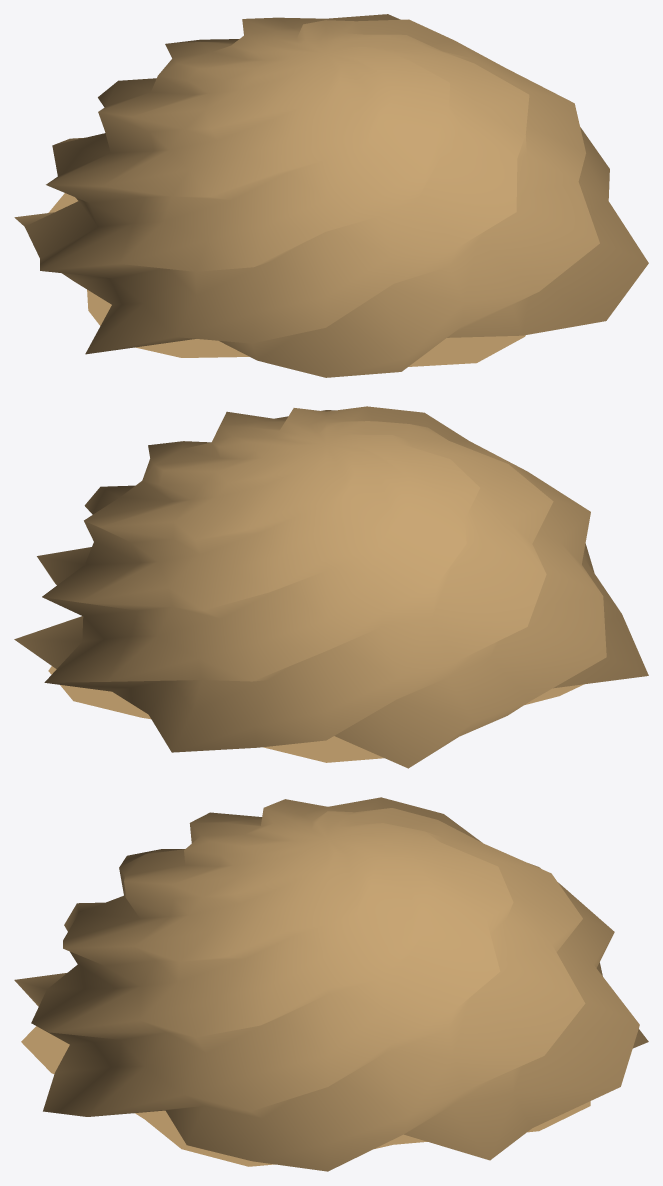
Rendered from community-nest.gltf.
3 views of the same model, one above another, from view 1: azimuth 30°, elevation 25°; view 2: azimuth 150°, elevation 25°; view 3: azimuth 270°, elevation 25° (orthographic). The views are drawn at different scales.
Parts seen in each view (by area): view 1: CommunityNest; view 2: CommunityNest; view 3: CommunityNest.
Part boxes in pixels (x1,y1,x2,y2): CommunityNest: (14,14,648,377); CommunityNest: (14,406,648,768); CommunityNest: (14,797,648,1171).
Bounding box in the file's own units: 11.52 × 4 × 11.37.
